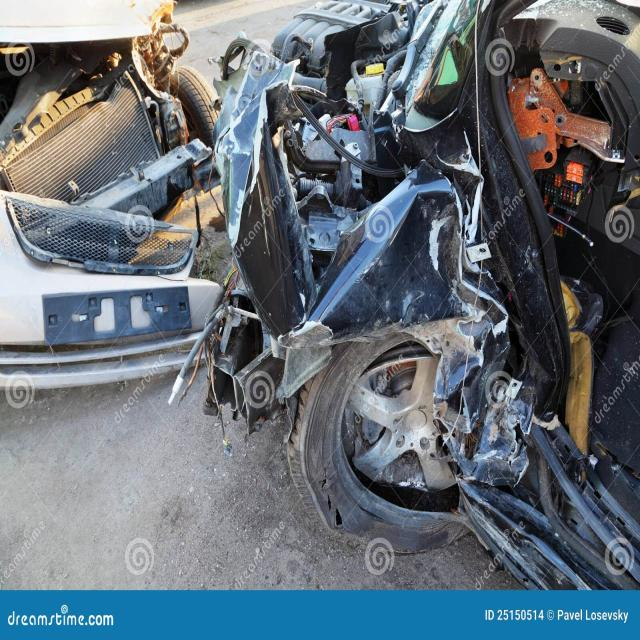crush: (168, 0, 640, 587), (0, 0, 224, 292)
